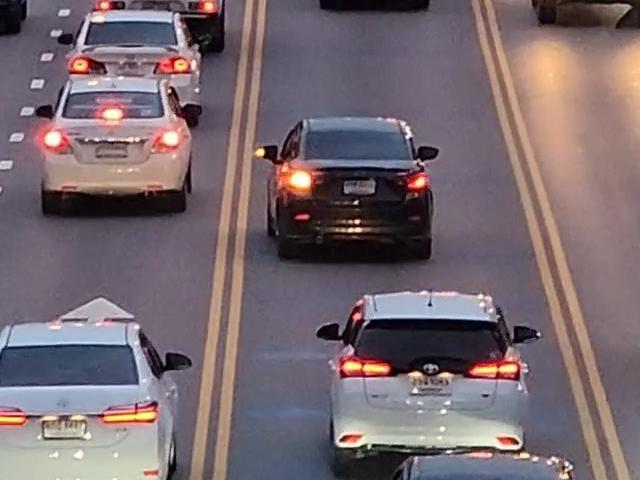car: (306, 281, 563, 480), (0, 315, 196, 480), (260, 105, 457, 268), (23, 72, 217, 212), (56, 10, 211, 110)
truck: (80, 0, 250, 48)
